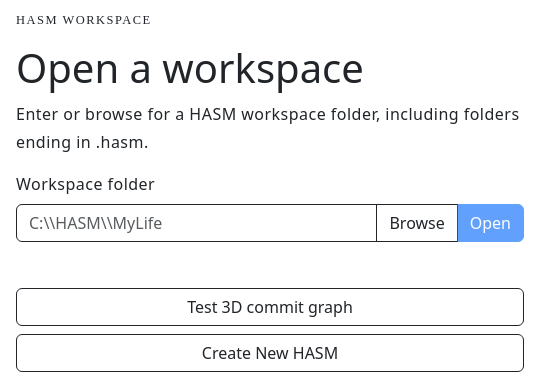
SEQ-01 app launch validation › TC-01-REACT-004 enables a valid path and clears the warning
In the field labelled "Workspace folder": [197, 223] box [16, 204, 377, 242], type "C:/workspace"
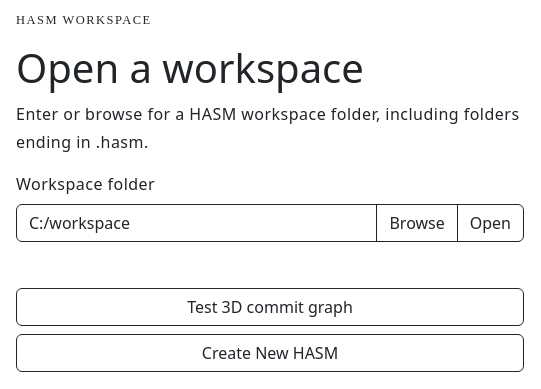
Expected: the button "Open" is enabled, [457, 204, 524, 242]
